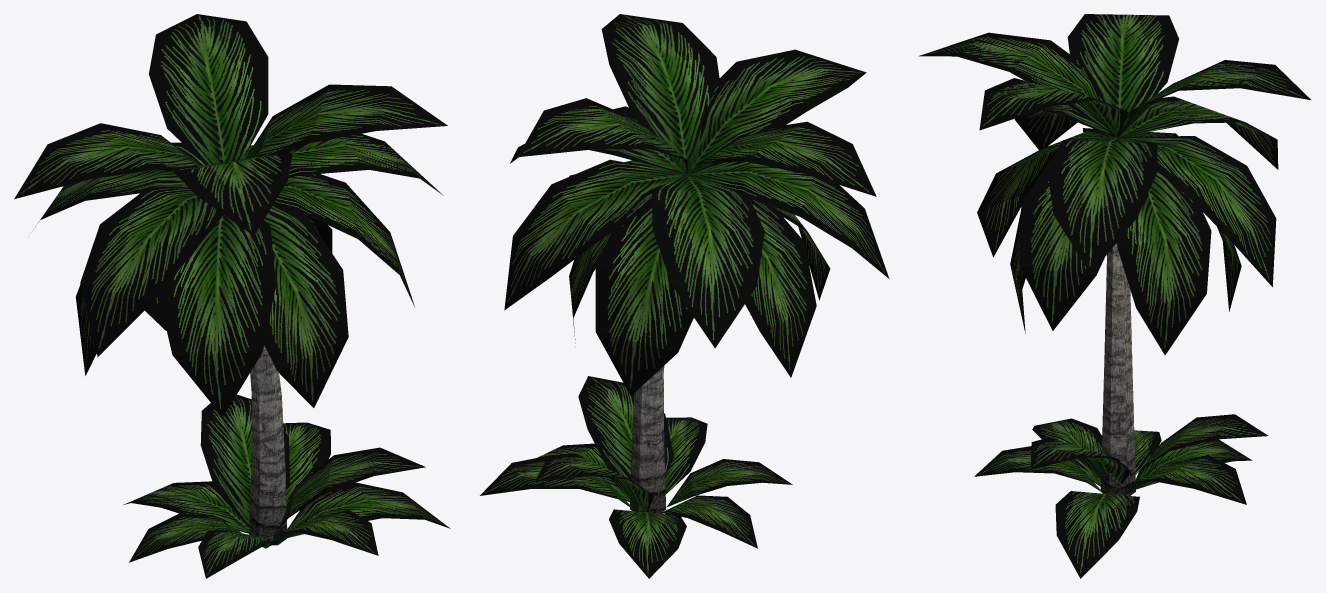
File: GY2JMYDR046M4O1LRW2EUEAWS.gltf
The picture shows the model from 3 angles, left to right: view 1: azimuth 30°, elevation 25°; view 2: azimuth 150°, elevation 25°; view 3: azimuth 270°, elevation 25°; orthographic projection. The views are drawn at different scales.
Size of the model in its own units: 2.27 by 2.5 by 2.04.
1 material, 1 textured.
